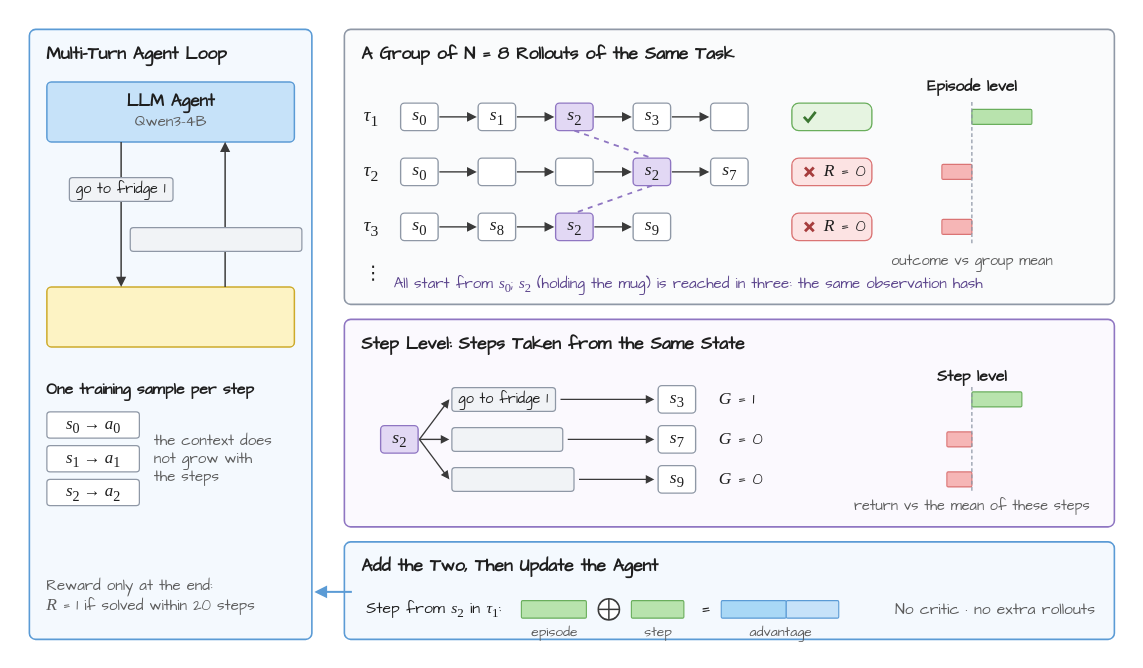
Image size: 1143x668. Some labels were removed from this diagram. Here are the shapes that lost their labels. From the top down, the centre of each, then its label:
At [728,116]: "s 4".
At [831,116]: "R = 1".
At [496,171]: "s 5".
At [573,171]: "s 6".
At [215,238]: "“You arrive at fridge 1.”".
At [170,316]: "Environment ALFWorld household tasks".
At [507,438]: "go to cabinet 1".
At [512,478]: "go to sinkbasin 1".
